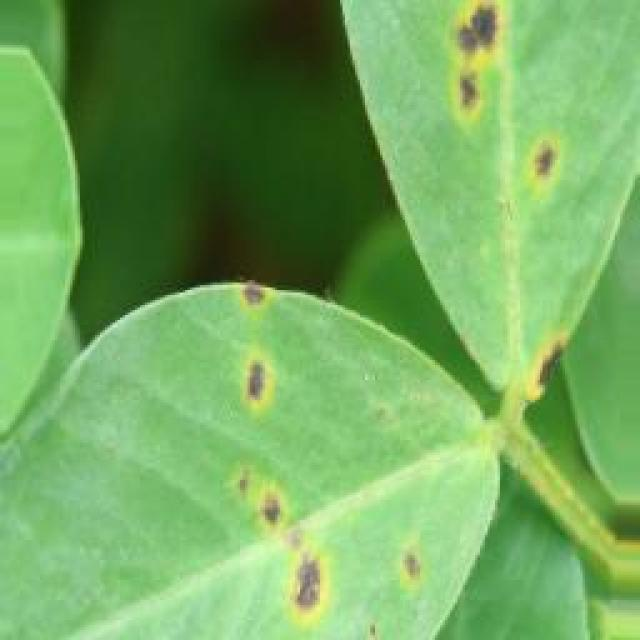Sigatoka: (201, 446, 348, 640), (215, 275, 307, 430), (420, 0, 508, 138), (500, 117, 583, 217), (386, 528, 452, 628)
